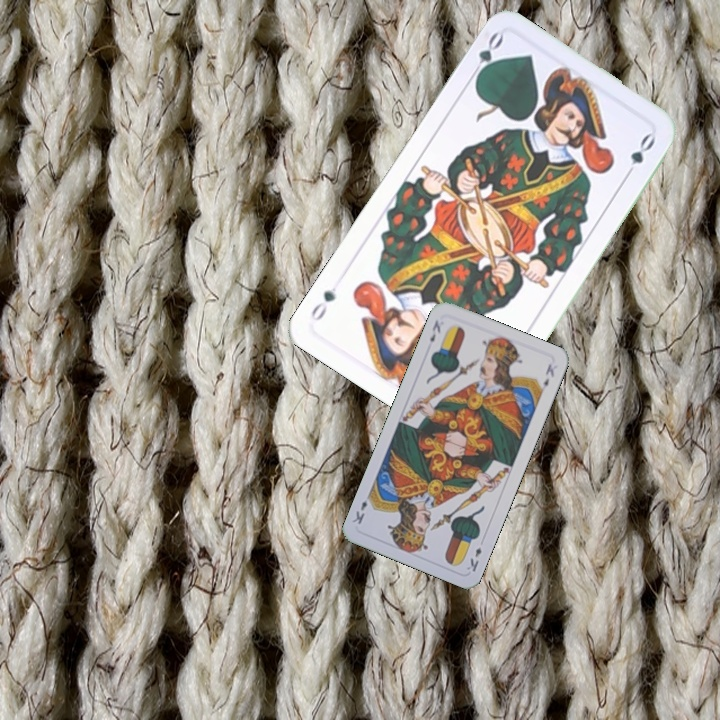EK: (462, 543, 484, 575), (426, 316, 443, 345)
GO: (465, 28, 506, 85)
